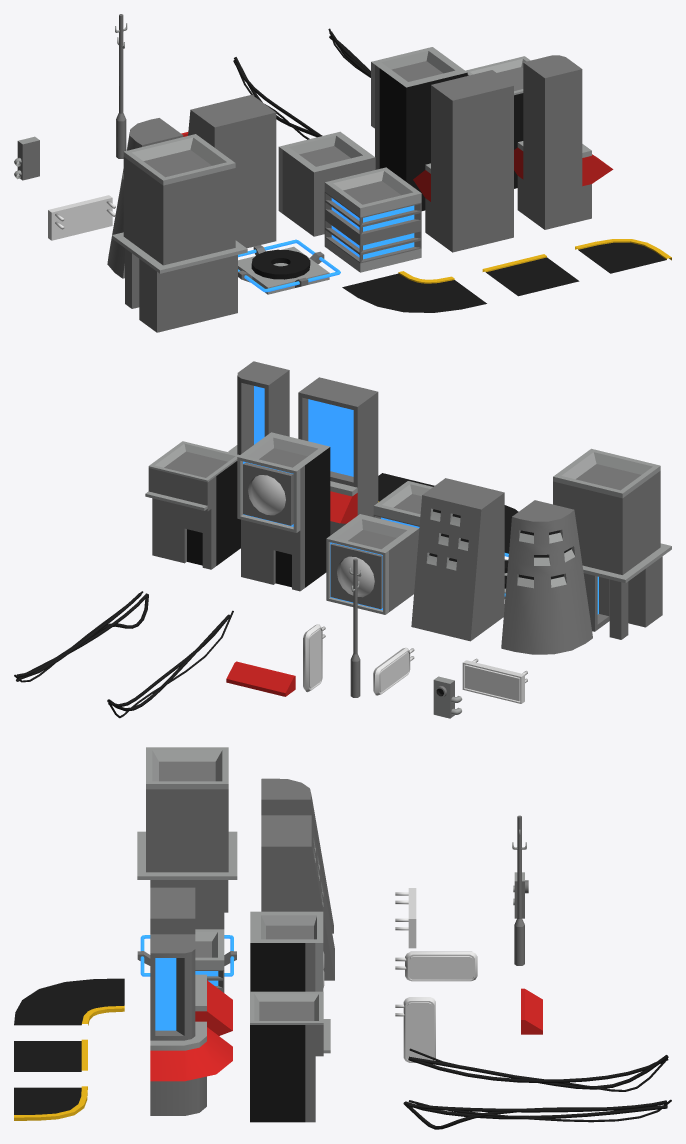
Rendered from Enviro.fbx.
The picture shows the model from 3 angles, top to bottom: view 1: azimuth 30°, elevation 25°; view 2: azimuth 150°, elevation 25°; view 3: azimuth 270°, elevation 25°; orthographic projection. The views are drawn at different scales.
Parts seen in each view (by area): view 1: Building5, Building3, Building4, BuildingSmall2, Wall1, Building1, BuildingSmall1, Road3, TurretPad, Road1, Bilboard3, Road2 (+5 smaller); view 2: Building5, Wall1, Building1, WallRound, Building2, Building3, BuildingSmall1, Building4, Bilboard3, BuildingSmall2, Roof1, Wires1 (+6 smaller); view 3: Building5, Building4, Building2, Wall1, Building1, Road3, Building3, Wires1, Wires2, Road2, Bilboard2, Road1 (+7 smaller).
Boxes of the visible parts, <box> form: Building5: <box>112,134,247,332</box>; Building3: <box>413,70,513,252</box>; Building4: <box>514,55,613,229</box>; BuildingSmall2: <box>324,167,421,272</box>; Wall1: <box>188,94,276,248</box>; Building1: <box>371,47,467,210</box>; BuildingSmall1: <box>278,131,375,236</box>; Road3: <box>342,271,486,312</box>; TurretPad: <box>238,239,340,294</box>; Road1: <box>482,254,579,296</box>; Bilboard3: <box>48,195,115,240</box>; Road2: <box>575,239,671,273</box>; Building5: <box>553,448,671,639</box>; Wall1: <box>411,478,504,641</box>; Building1: <box>237,432,330,591</box>; WallRound: <box>501,500,592,654</box>; Building2: <box>145,441,240,569</box>; Building3: <box>298,377,378,535</box>; BuildingSmall1: <box>326,514,419,614</box>; Building4: <box>228,361,289,454</box>; Bilboard3: <box>462,658,527,703</box>; BuildingSmall2: <box>373,481,432,528</box>; Roof1: <box>226,661,295,696</box>; Wires1: <box>14,591,148,682</box>; Building5: <box>137,747,237,929</box>; Building4: <box>150,934,232,1115</box>; Building2: <box>250,991,330,1122</box>; Wall1: <box>261,815,334,980</box>; Building1: <box>250,911,324,991</box>; Road3: <box>14,978,124,1025</box>; Building3: <box>150,887,232,1035</box>; Wires1: <box>403,1099,671,1129</box>; Wires2: <box>408,1048,668,1091</box>; Road2: <box>14,1086,87,1120</box>; Bilboard2: <box>395,951,477,981</box>; Road1: <box>14,1039,87,1071</box>.
Bounding box in the file's own units: 1494 × 617 × 1782.
